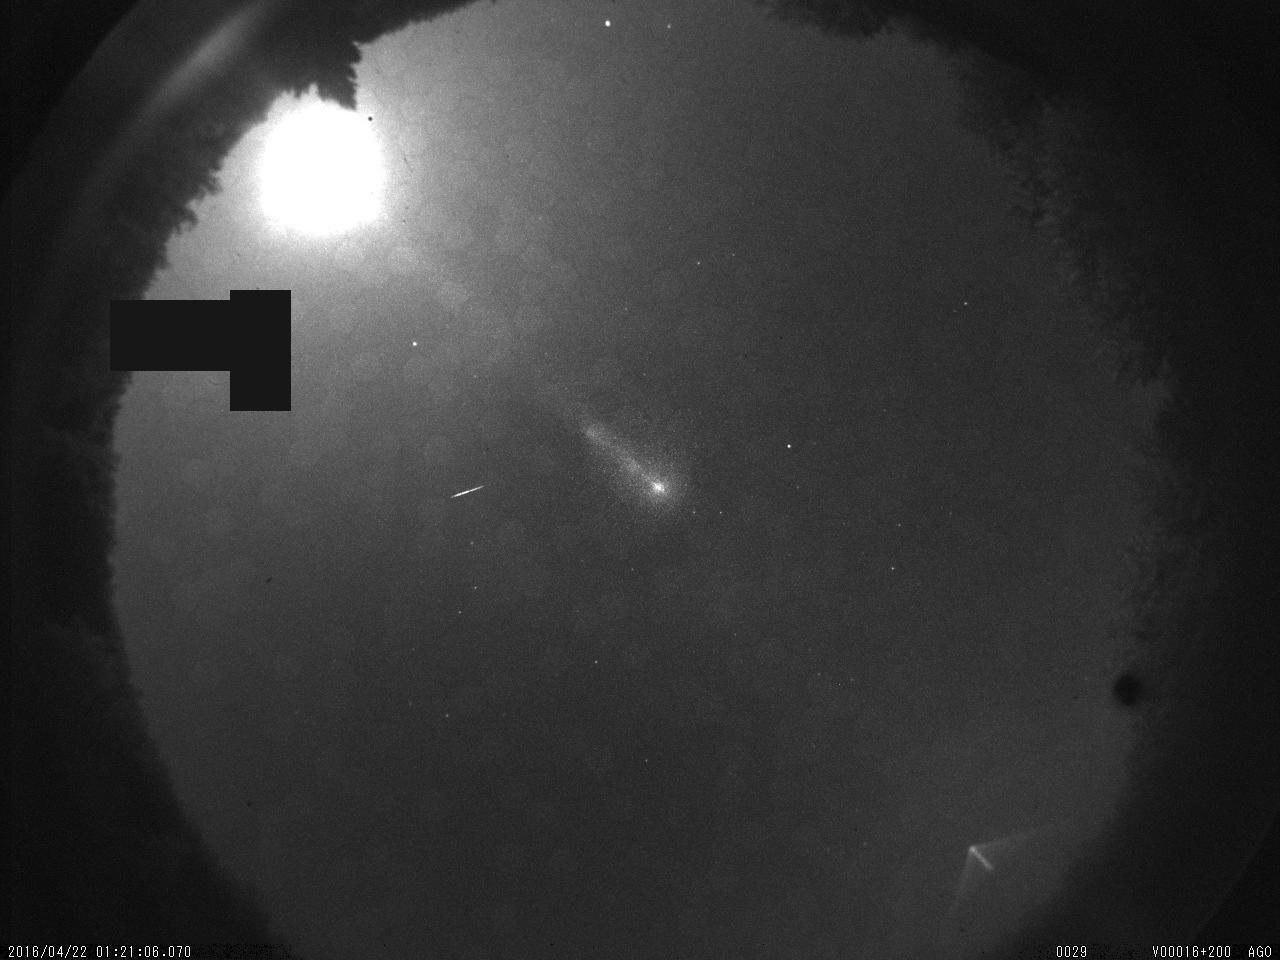Meteor: (444, 480, 489, 510)
